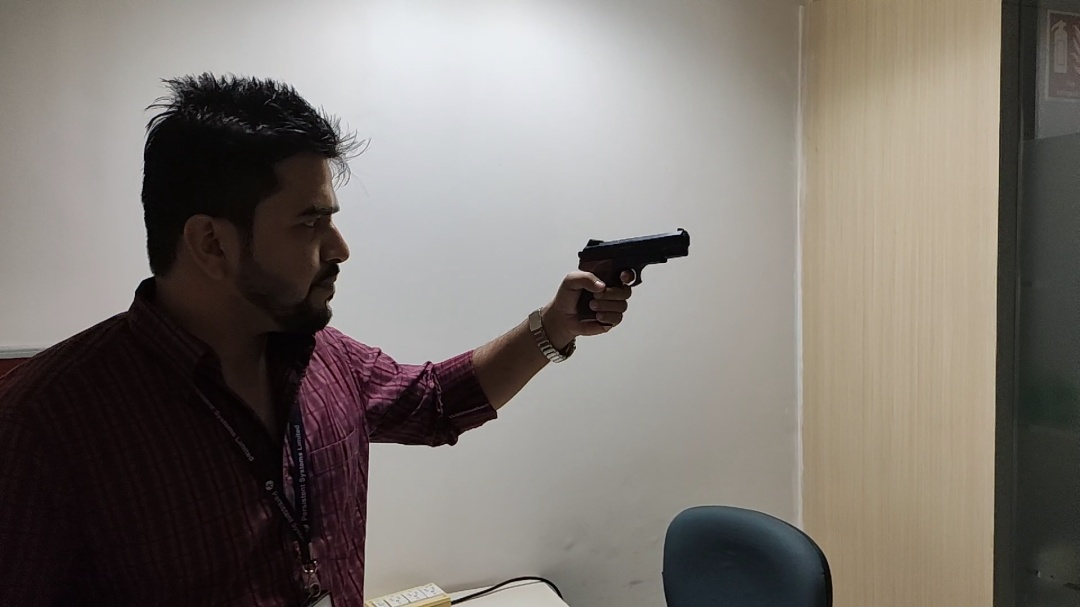gun: (571, 223, 700, 318)
